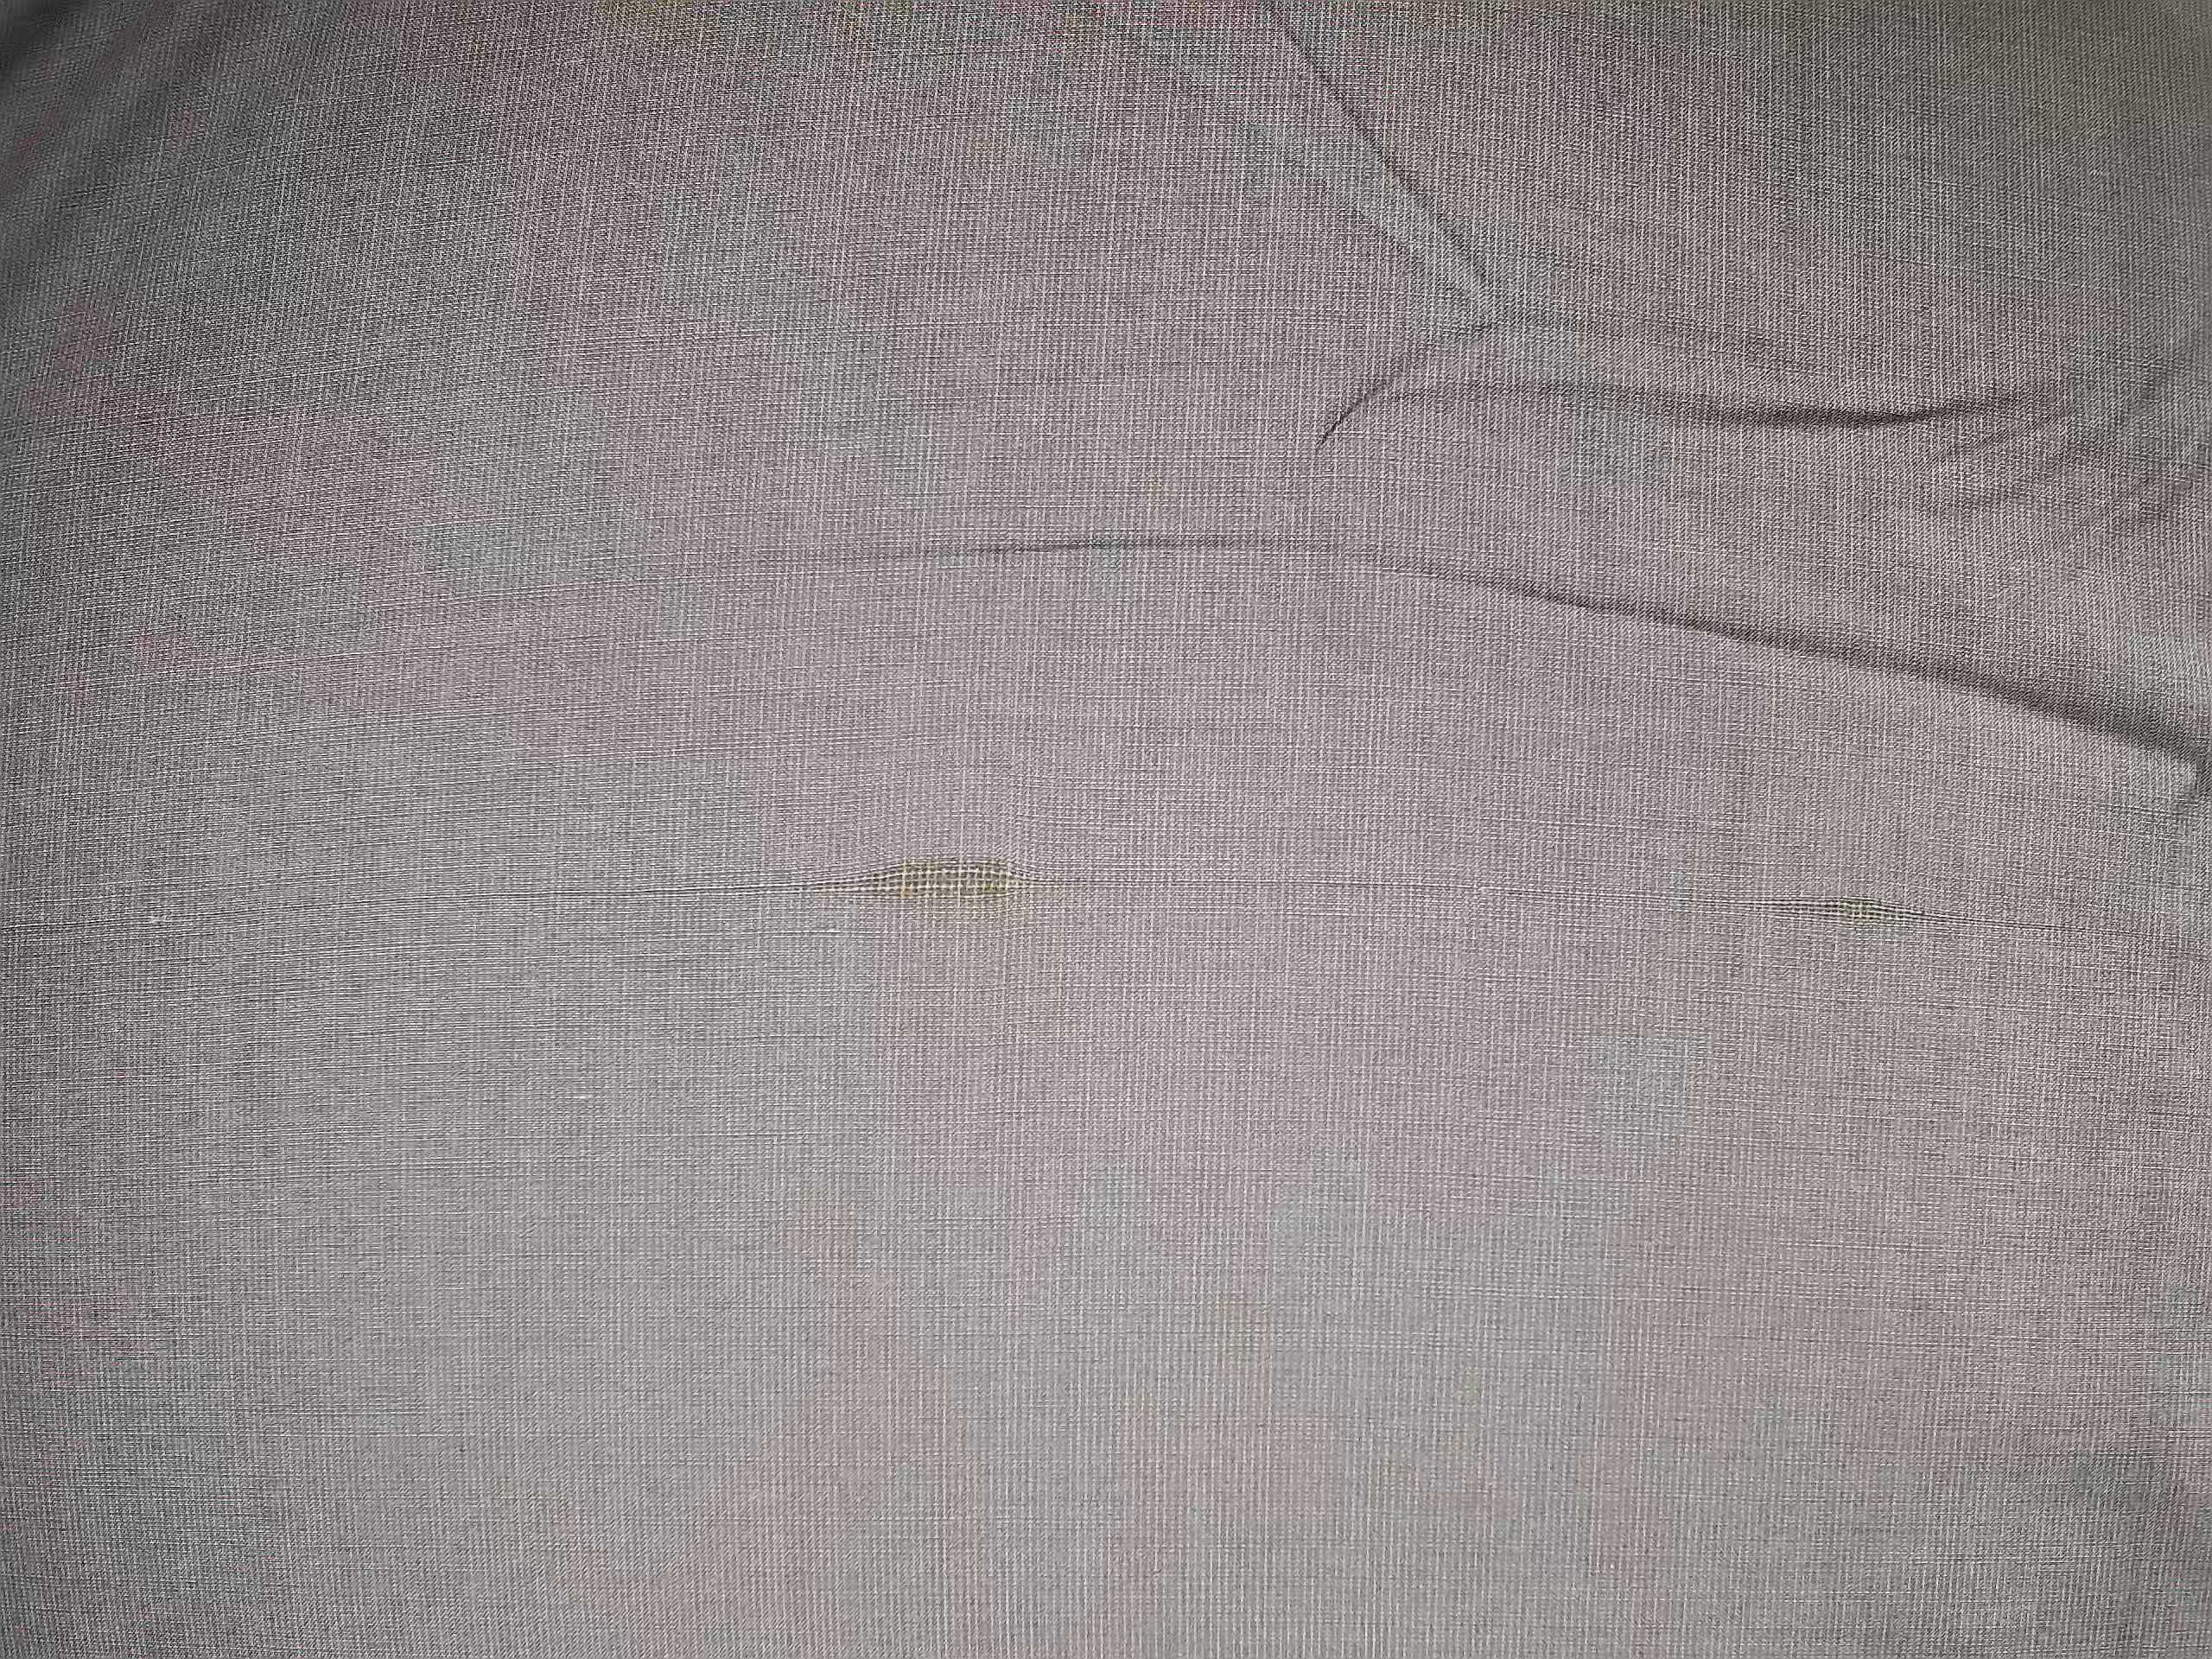thin-spinning: (1759, 864, 1966, 950), (833, 838, 1047, 918)
